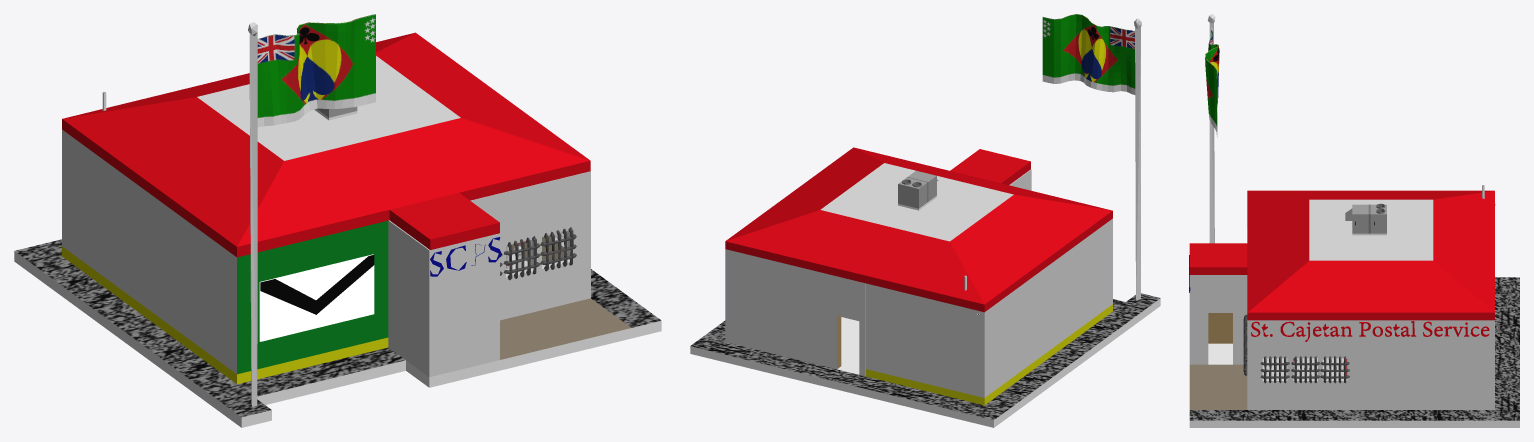
Rendered from Post Office.glb.
3 renders of one model, left to right at view 1: azimuth 30°, elevation 25°; view 2: azimuth 150°, elevation 25°; view 3: azimuth 270°, elevation 25°, orthographic. The views are drawn at different scales.
Parts seen in each view (by area): view 1: Roof, Ext Walls, Ground, Flag, Logo, Flagpole, Bars, Windows; view 2: Roof, Ext Walls, Ground, Flag, Flagpole, RTU, Floor; view 3: Roof, Ext Walls, Ground, Bars, Sign.001, RTU, Flag, Flagpole, Floor, Windows.
Boxes of the visible parts, x1,y1,x2,y2 form: Roof: (62,32,590,257); Ext Walls: (62,129,590,384); Ground: (14,239,661,427); Flag: (257,14,375,127); Logo: (259,254,374,341); Flagpole: (248,22,257,406); Bars: (500,227,576,280); Windows: (506,231,569,274); Roof: (725,147,1112,312); Ext Walls: (725,169,1112,405); Ground: (690,293,1160,427); Flag: (1042,14,1135,94); Flagpole: (1134,18,1141,300); RTU: (898,170,938,210); Floor: (837,317,859,374); Roof: (1189,190,1494,320); Ext Walls: (1189,275,1494,409); Ground: (1189,277,1519,427); Bars: (1243,314,1349,383); Sign.001: (1251,321,1489,341); RTU: (1345,203,1386,235); Flag: (1205,27,1219,137); Flagpole: (1207,14,1215,243); Floor: (1262,358,1343,376); Windows: (1263,358,1346,375).
Size of what is drawn, in the model's own units: 12.5 by 11.34 by 12.21.
Materials: 32 (2 with a texture image).
